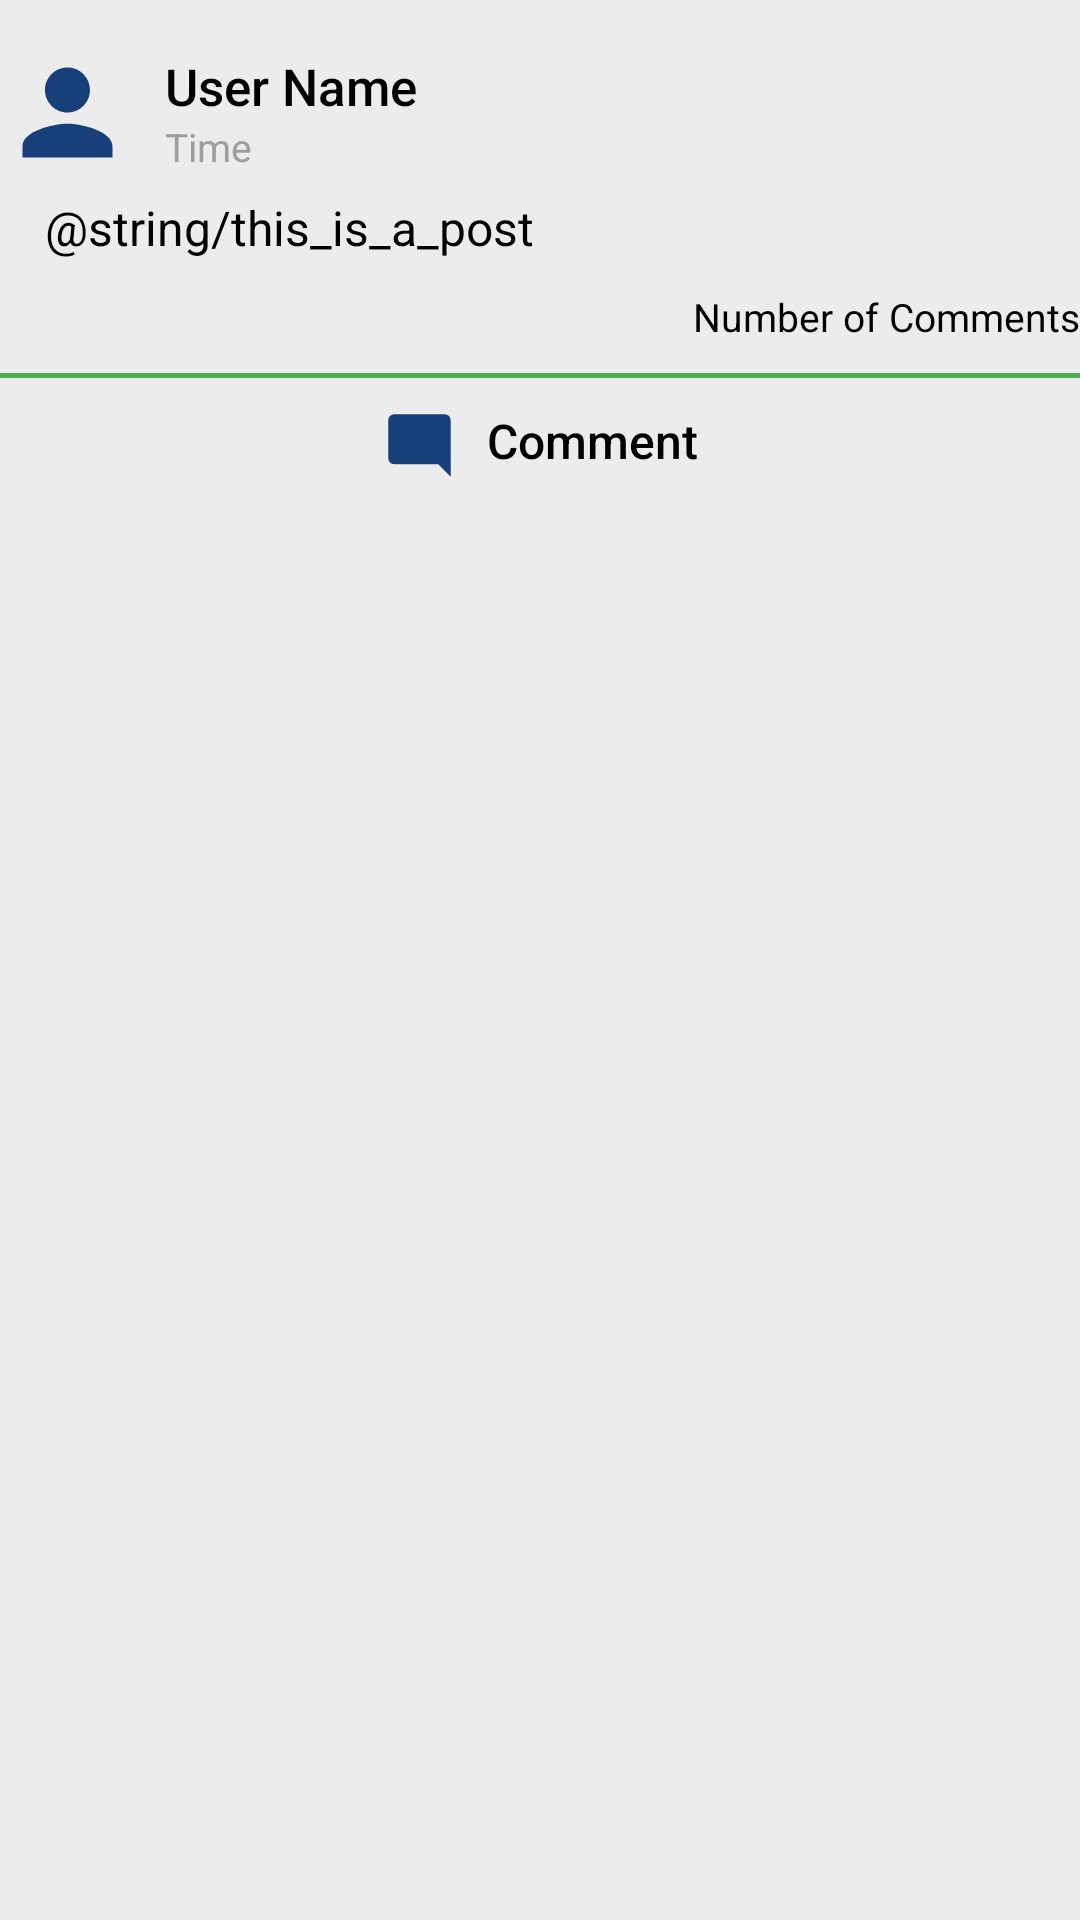

Where icons sit on this 1080×1920 app screen, as {"left": x1, "top": y1, "right": x2, "bottom": y2}:
profile: {"left": 22, "top": 67, "right": 113, "bottom": 158}
